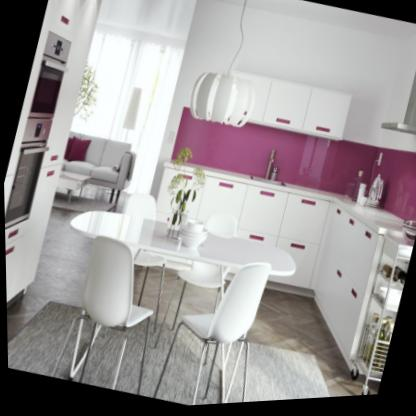Chair: (44, 226, 177, 401), (146, 242, 283, 409)
Sofa: (52, 125, 141, 212)
